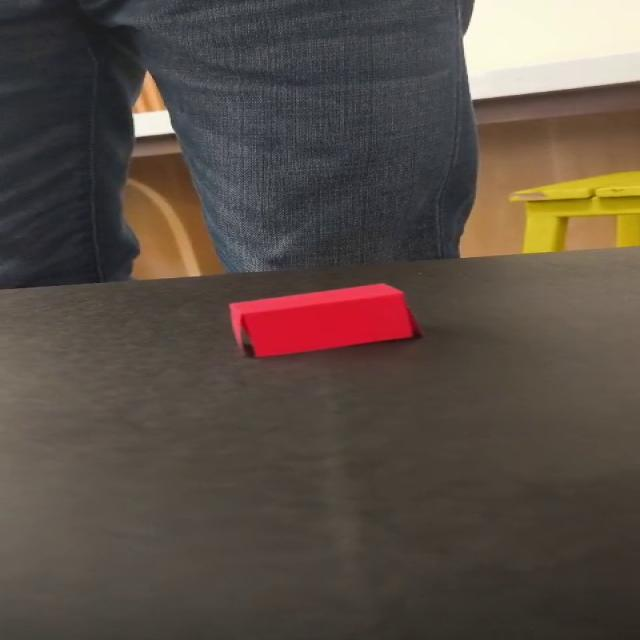red block: (226, 282, 418, 358)
